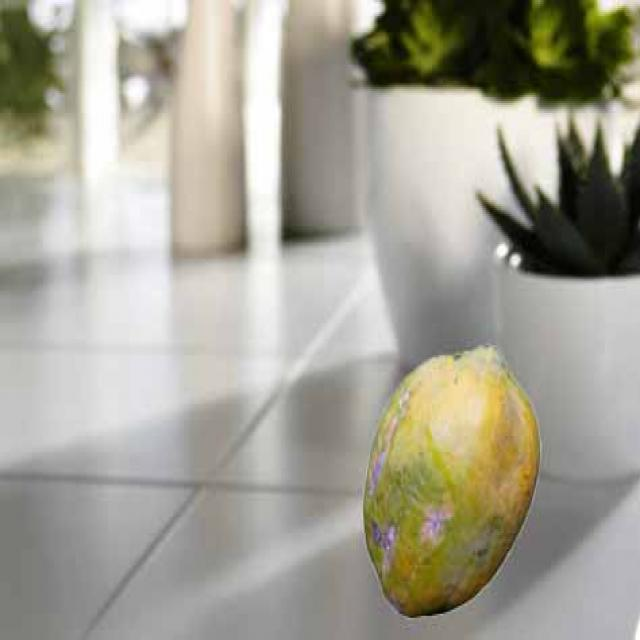Pepaya rippen: (364, 339, 542, 622)
